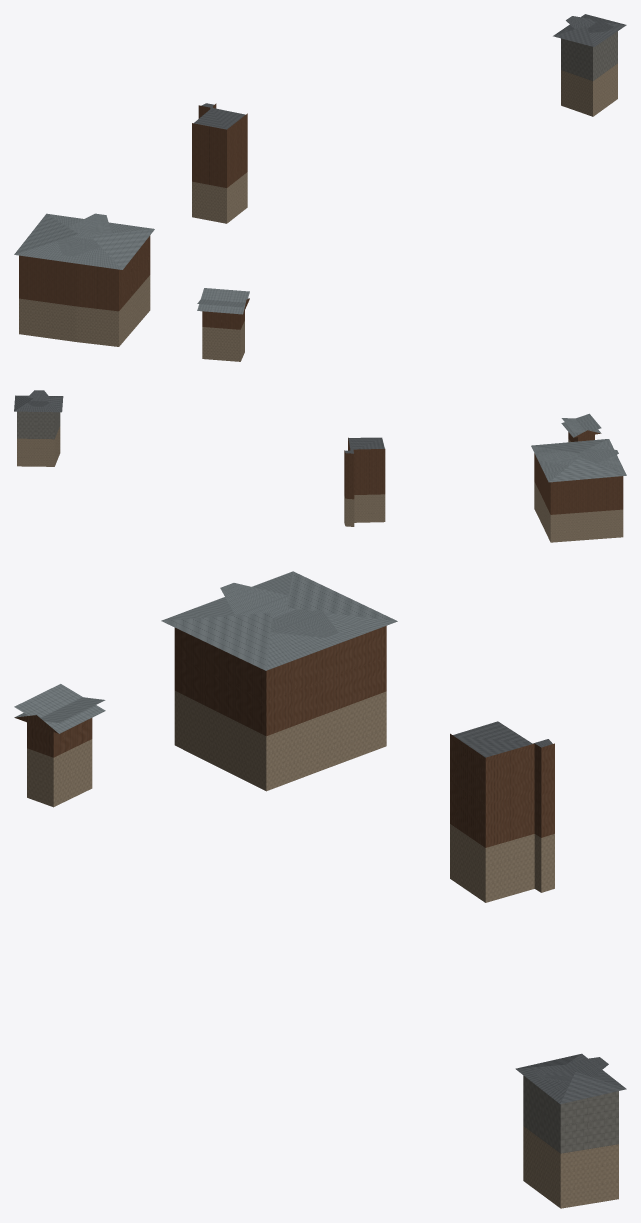
Rendered from bld_c10_18_430.gltf.
The picture shows the model from 3 angles, top to bottom: view 1: azimuth 30°, elevation 25°; view 2: azimuth 150°, elevation 25°; view 3: azimuth 270°, elevation 25°; orthographic projection. The views are drawn at different scales.
Visible parts, largest first — view 1: bld_c10_18_430; view 2: bld_c10_18_430; view 3: bld_c10_18_430.
Part boxes in pixels (box(x1,y1,x2,y2)): bld_c10_18_430: box(14, 14, 626, 361); bld_c10_18_430: box(14, 390, 626, 542); bld_c10_18_430: box(14, 571, 626, 1208).
Bounding box in the file's own units: 105 × 14.88 × 51.54.
6 materials, 6 textured.
